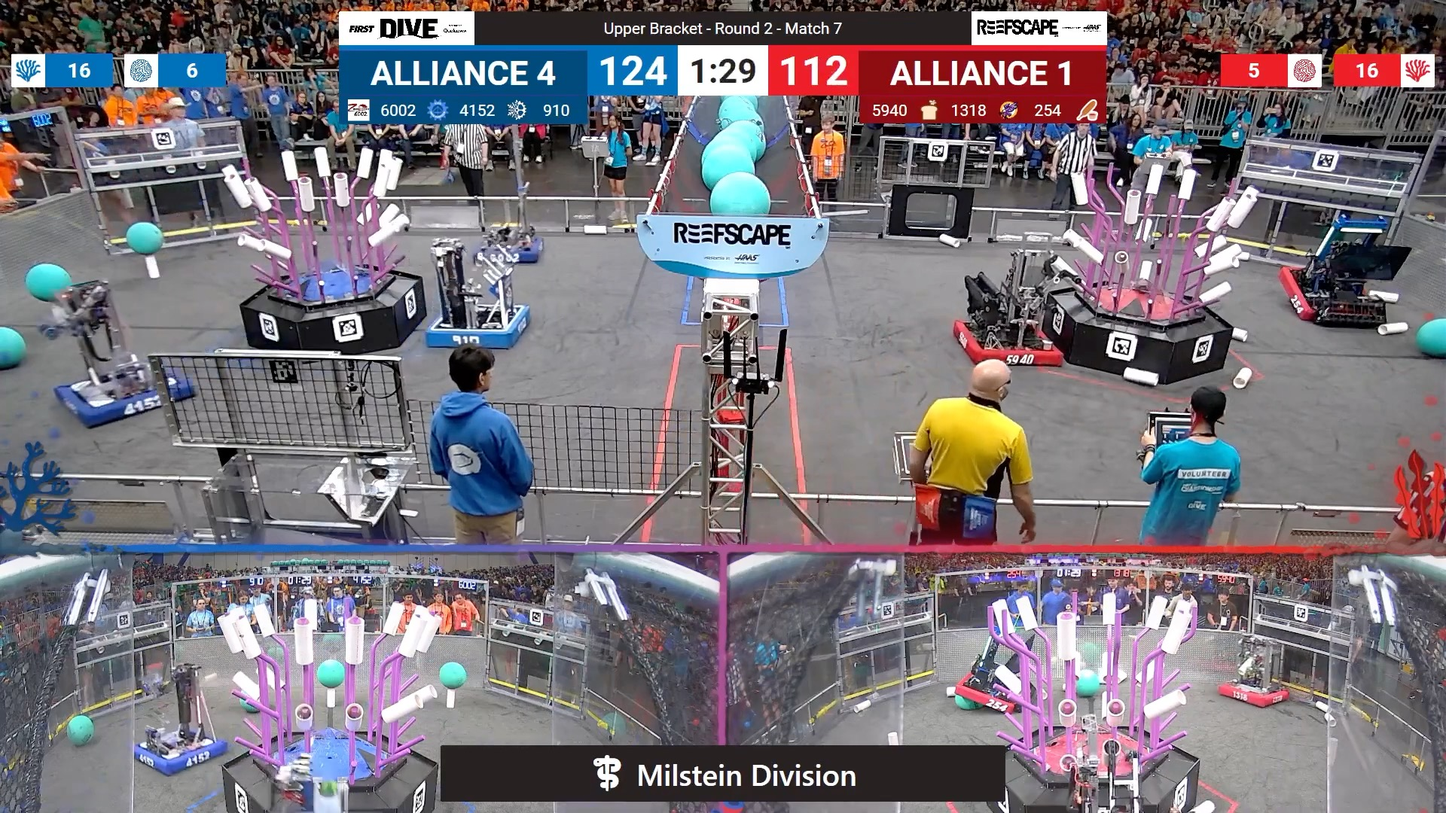bumpers: (46, 372, 182, 432), (1267, 268, 1385, 331), (952, 315, 1074, 374), (421, 305, 534, 354), (126, 731, 234, 781), (953, 670, 1038, 718), (1211, 678, 1294, 710), (469, 238, 547, 268)
